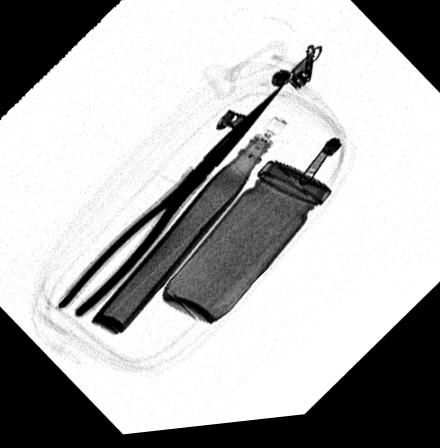Pliers: (59, 84, 291, 320)
